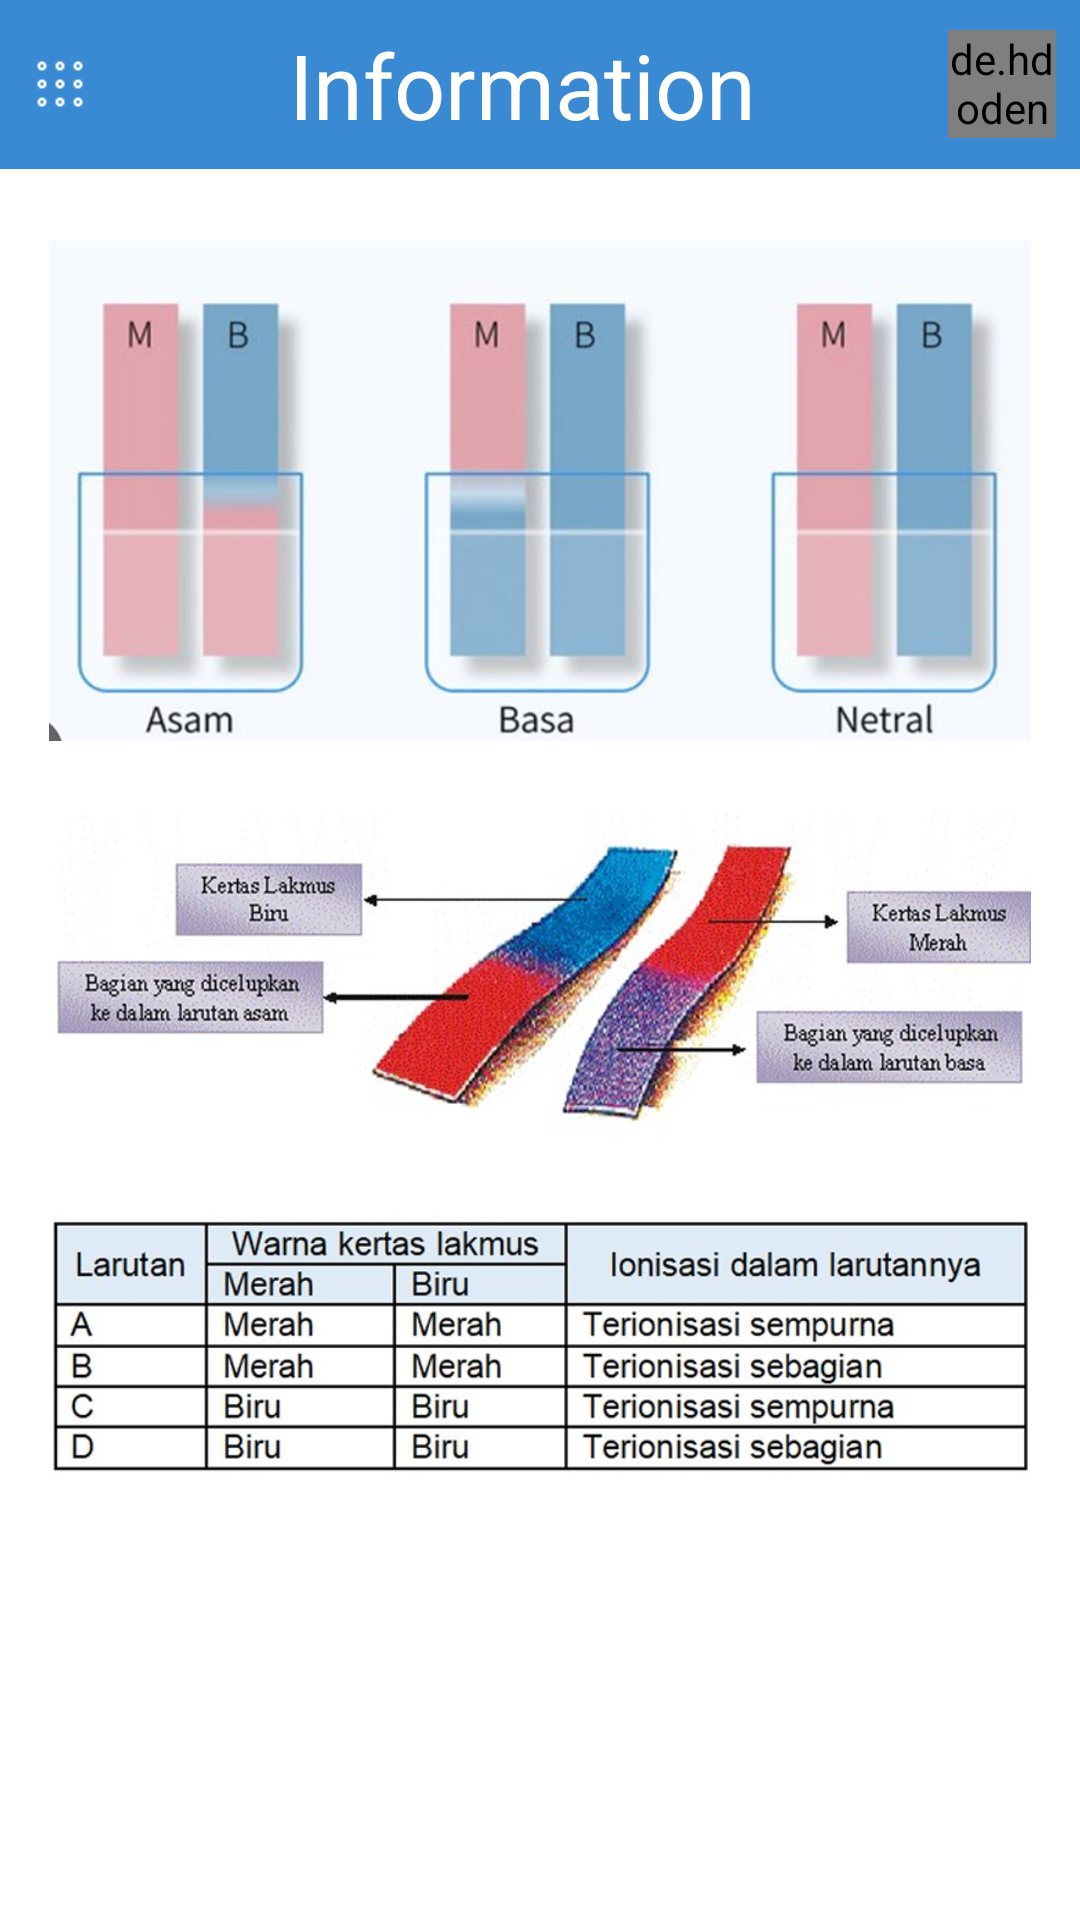

Icons on this 1080*1920 Android screen, each with the point to tap as (x=x, y=y):
apps: (x=60, y=84)
